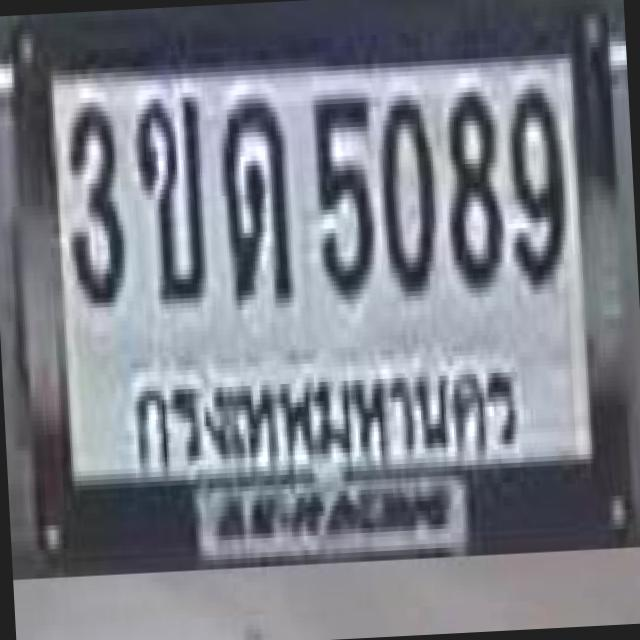license_plate: (7, 0, 638, 573)
